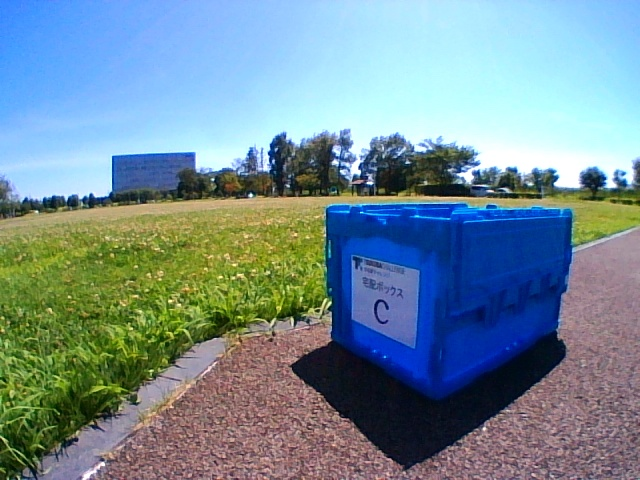blue_box: (325, 204, 572, 401)
tag_c: (356, 271, 412, 326)
